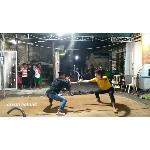Celurit: (70, 69, 84, 85)
